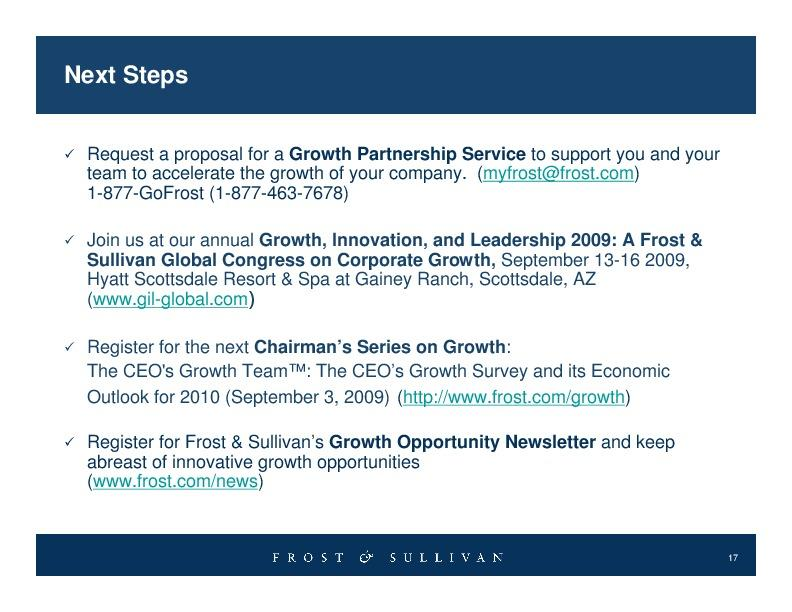paragraph: (56, 130, 760, 508)
title: (60, 56, 195, 98)
